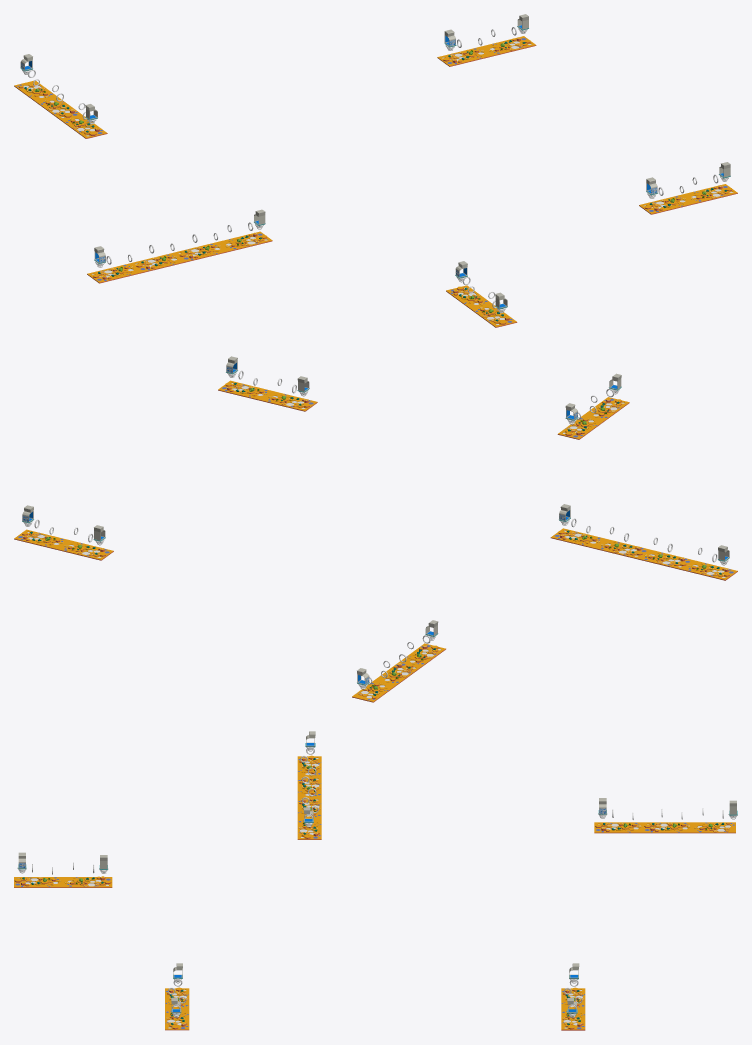
Rendered from D9_Street_1.fbx.
3 renders of one model, top to bottom at view 1: azimuth 30°, elevation 25°; view 2: azimuth 150°, elevation 25°; view 3: azimuth 270°, elevation 25°, orthographic. The views are drawn at different scales.
Parts seen in each view (by area): view 1: Plane.011, Plane.022, Plane.025, Plane.028, Plane.032; view 2: Plane.011, Plane.022, Plane.025, Plane.028, Plane.032; view 3: Plane.011, Plane.022, Plane.032, Plane.025, Plane.028.
Boxes of the visible parts, x1,y1,x2,y2 form: Plane.011: (87, 209, 272, 283); Plane.022: (14, 54, 107, 138); Plane.025: (437, 14, 536, 66); Plane.028: (639, 162, 737, 214); Plane.032: (446, 261, 517, 327); Plane.011: (550, 504, 737, 580); Plane.022: (352, 620, 445, 702); Plane.025: (14, 505, 113, 560); Plane.028: (218, 356, 317, 411); Plane.032: (557, 373, 629, 439); Plane.011: (297, 731, 321, 839); Plane.022: (594, 798, 737, 833); Plane.032: (14, 852, 112, 887); Plane.025: (561, 963, 585, 1030); Plane.028: (165, 963, 189, 1030).
Size of the model in its own units: 106843 by 5037 by 119533.
6 materials, 4 textured.
